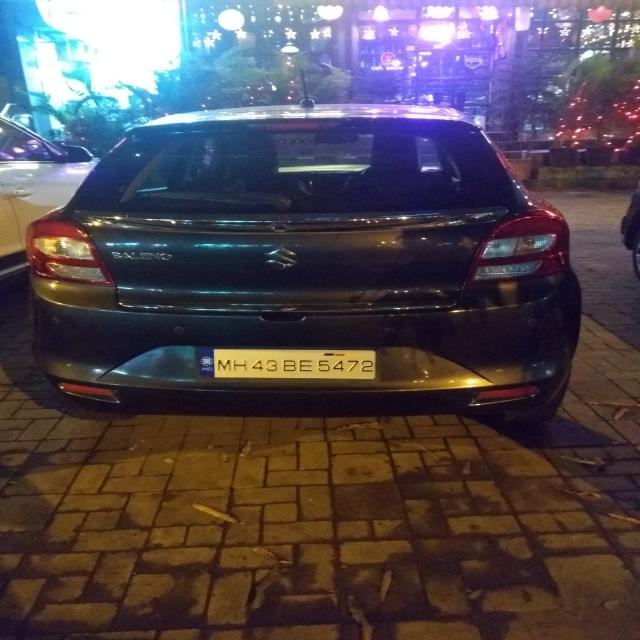Number-Plate: (208, 348, 376, 382)
